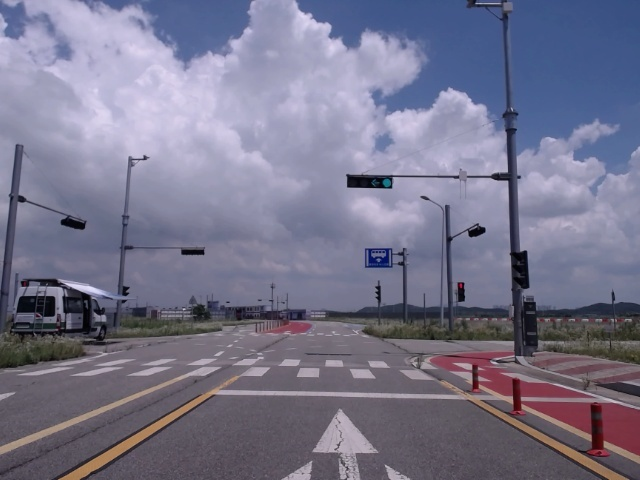all_green_4: (348, 173, 395, 189)
